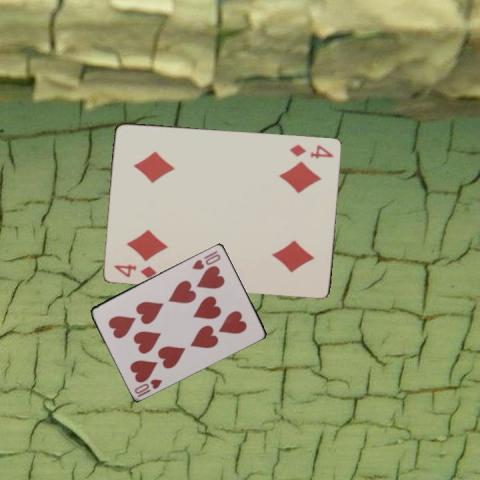10h: (189, 247, 222, 271), (132, 376, 164, 399)
4d: (286, 141, 334, 160), (111, 260, 159, 279)
